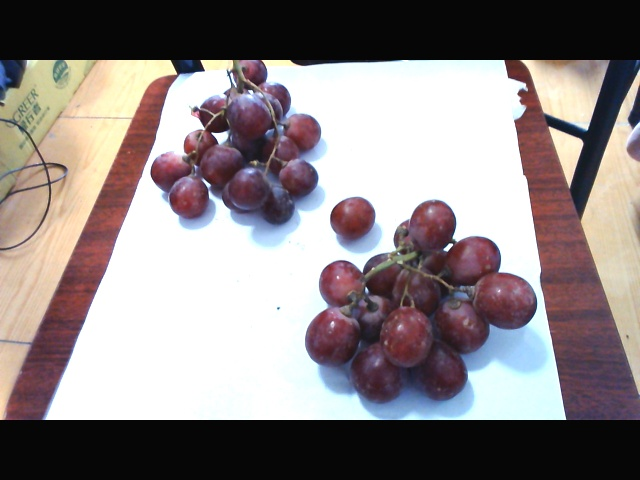grape: (303, 190, 541, 399), (148, 67, 335, 231)
